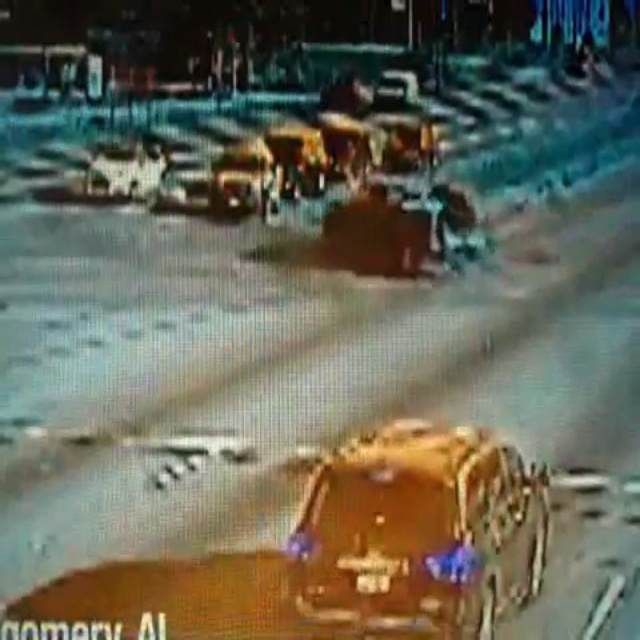acc: (308, 161, 490, 283)
